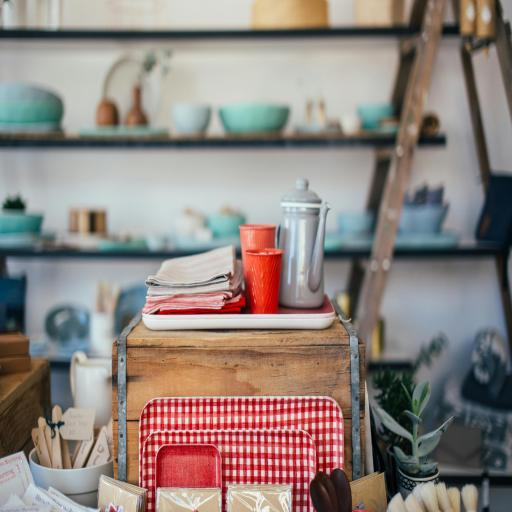phone: (245, 248, 284, 313), (239, 224, 276, 279)
